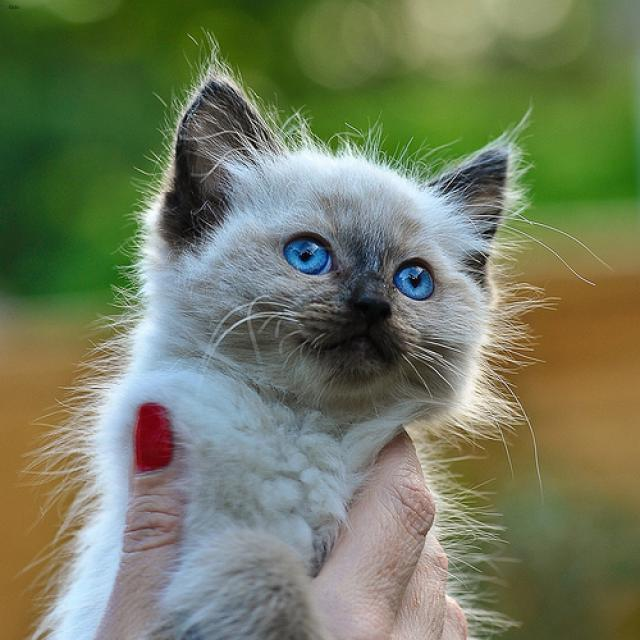Ragdoll: (140, 66, 522, 416)
